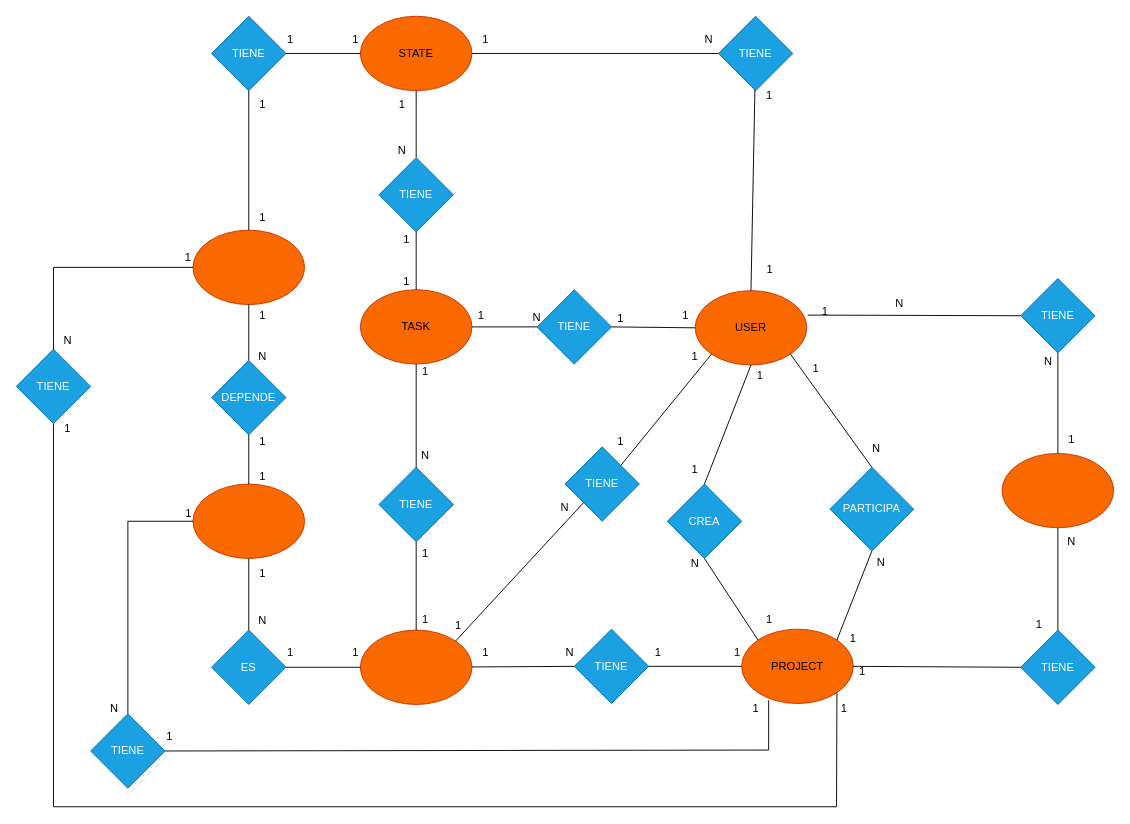
Some shapes in this 1130 by 824 pixel diagram are drawn without their labels. Here are the shapes that lost their labels. From the top down, the centre of each, then its label:
pixel 248 267: TYPE_STATE
pixel 1057 490: ROLE
pixel 248 520: TYPE_ACTIVITY
pixel 415 666: ACTIVITY
